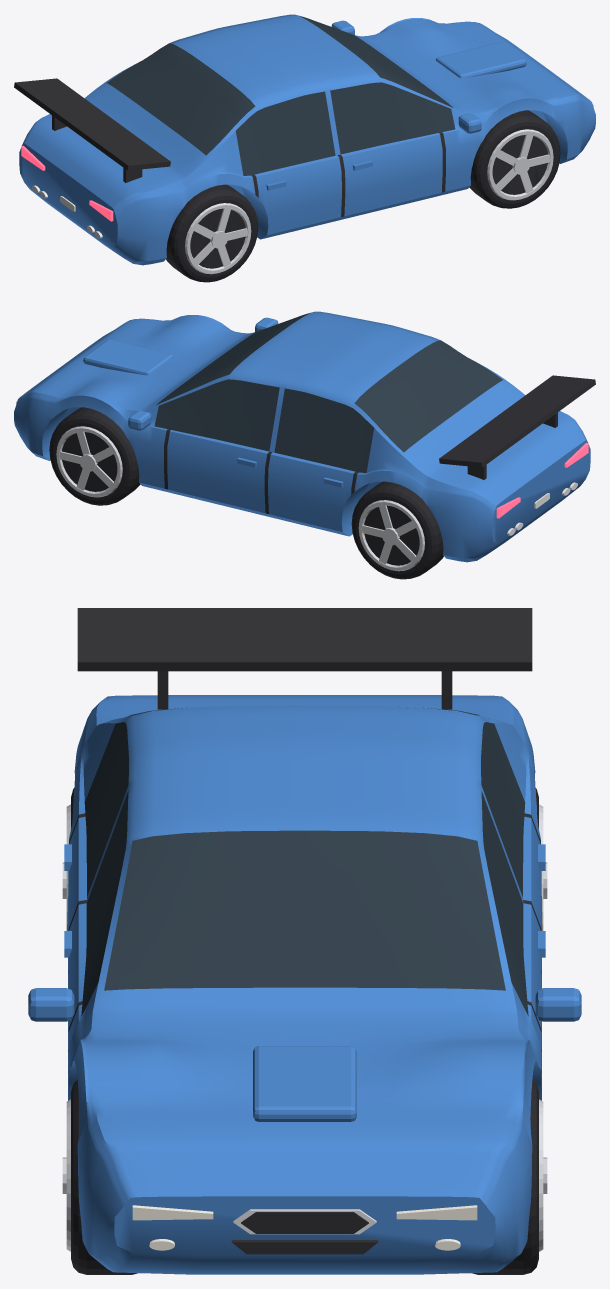
The model's file is subaroo_wrx.fbx.
3 views of the same model, one above another, from view 1: azimuth 30°, elevation 25°; view 2: azimuth 150°, elevation 25°; view 3: azimuth 270°, elevation 25° (orthographic). The views are drawn at different scales.
Visible parts, largest first — view 1: Body.026, Glass.026, Trim.026, Tire.026, Rim.026, TailLight.026; view 2: Body.026, Glass.026, Tire.026, Trim.026, Rim.026, TailLight.026; view 3: Body.026, Glass.026, Trim.026, Tire.026, Rim.026, HeadLight.026.
Part boxes in pixels (x1,y1,x2,y2): Body.026: (19, 14, 595, 265); Glass.026: (107, 15, 455, 175); Trim.026: (14, 78, 547, 268); Tire.026: (166, 110, 560, 282); Rim.026: (185, 129, 553, 274); TailLight.026: (21, 145, 113, 221); Body.026: (14, 311, 590, 562); Glass.026: (154, 312, 502, 472); Tire.026: (49, 407, 443, 579); Trim.026: (62, 375, 595, 565); Rim.026: (56, 426, 424, 571); TailLight.026: (496, 442, 588, 518); Body.026: (28, 695, 581, 1274); Glass.026: (81, 706, 528, 1016); Trim.026: (68, 608, 541, 1254); Tire.026: (71, 788, 538, 1274); Rim.026: (62, 804, 547, 1251); HeadLight.026: (132, 1205, 477, 1250).
Bounding box in the file's own units: 1464 × 469 × 724.
